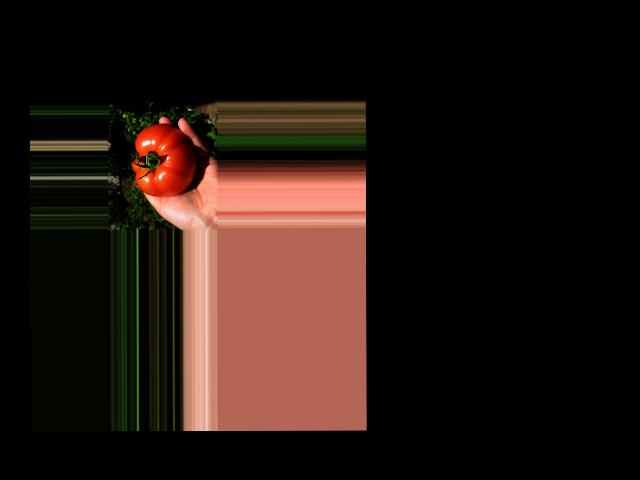tomato: (132, 123, 195, 196)
